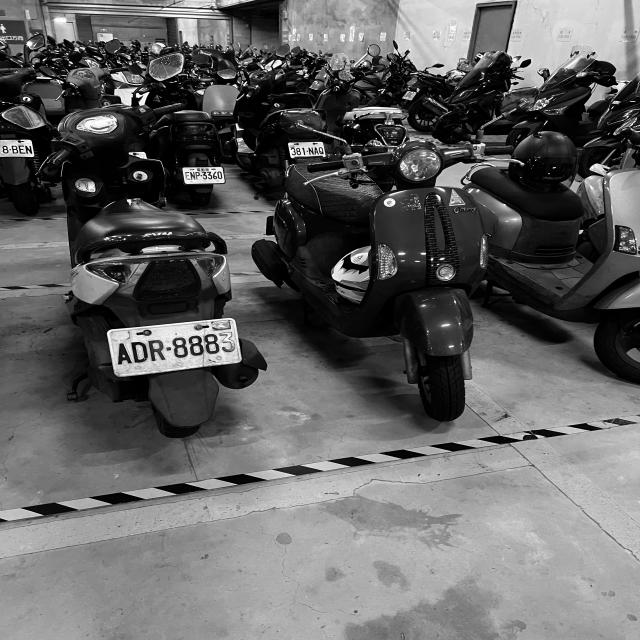-: (166, 344, 172, 352), (200, 174, 203, 177), (10, 148, 12, 150), (306, 150, 308, 152)
0: (218, 170, 224, 180)
1: (302, 147, 306, 155)
3: (218, 330, 236, 352), (207, 172, 213, 180), (202, 172, 208, 180), (290, 147, 296, 155)
6: (212, 171, 218, 180)
8: (171, 334, 188, 358), (203, 332, 220, 354), (188, 335, 204, 355), (296, 147, 302, 156), (3, 146, 8, 154)
A: (115, 342, 132, 364), (314, 147, 320, 155)
B: (12, 145, 19, 154)
D: (132, 340, 148, 362)
E: (18, 144, 26, 154), (185, 171, 191, 180)
N: (25, 144, 33, 154), (189, 171, 196, 180), (308, 147, 314, 155)
P: (196, 172, 200, 180)
Q: (319, 147, 325, 155)
R: (148, 339, 168, 362)
plate: (105, 326, 244, 366), (184, 166, 226, 183), (288, 144, 325, 158)
